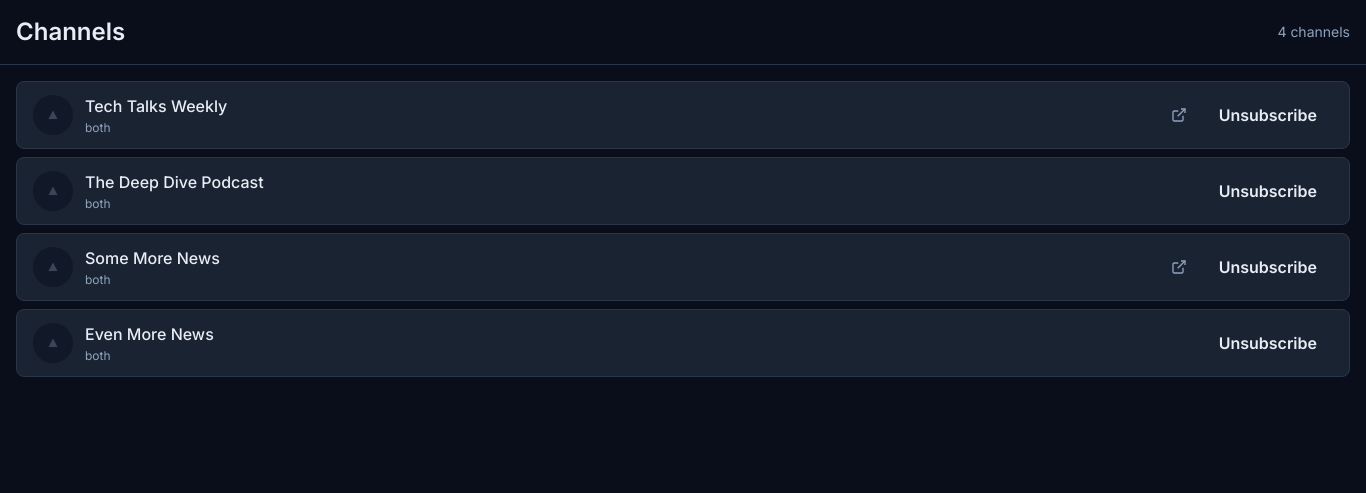
Test: Live-test Task 10: channels are clickable › clicking a channel row opens that channel
Expected: the text "Tech Talks Weekly" is shown, 85,94 -> 227,118
Click the button with aria-label "explore tech talks weekly".
click(130, 115)  # box 33,94 -> 227,136
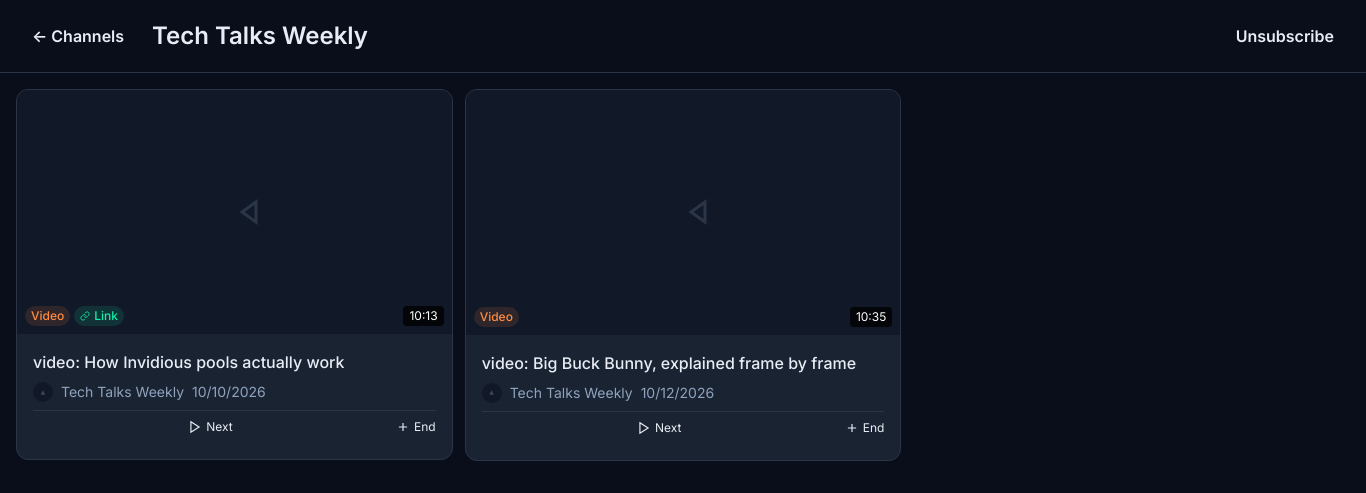
Expected: the element with test id "channel-screen" is shown
